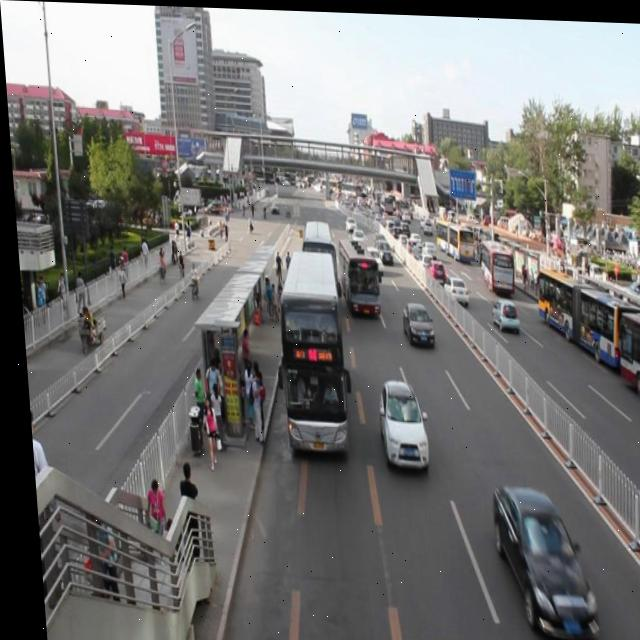car: (479, 481, 596, 637), (367, 376, 425, 467), (394, 295, 432, 343), (359, 241, 381, 276), (372, 233, 391, 262)
van: (263, 244, 352, 460), (293, 211, 339, 316), (330, 229, 381, 317)
